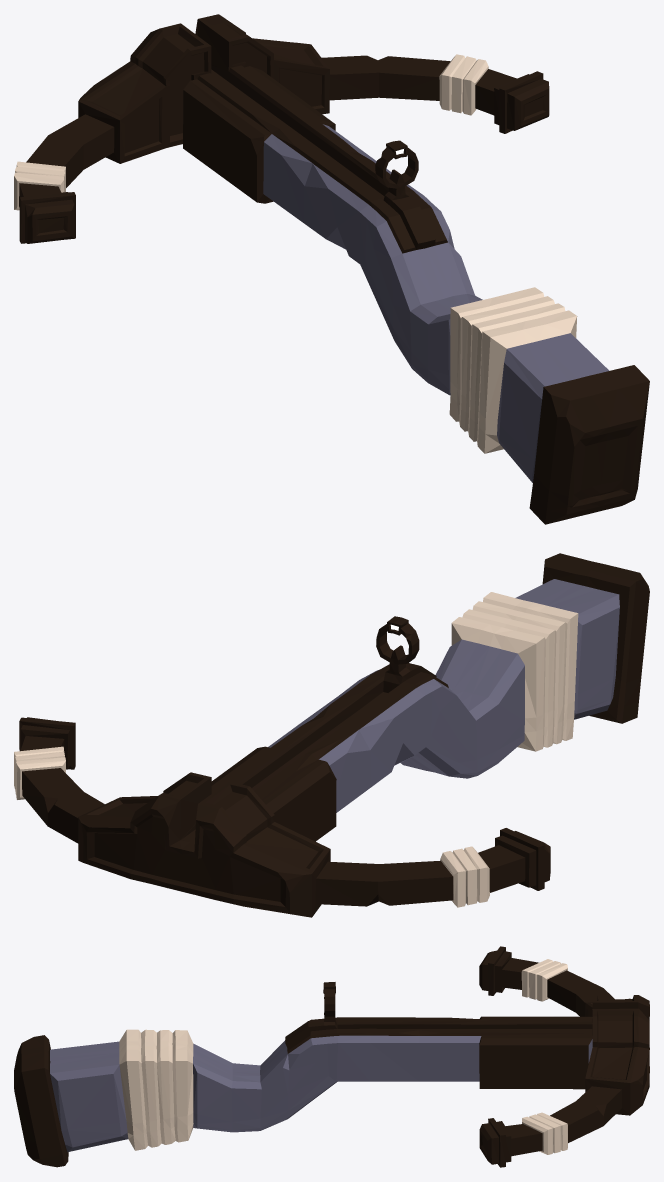
Rendered from SFFA_Weapon_Crossbow_002.fbx.
3 renders of one model, top to bottom at view 1: azimuth 30°, elevation 25°; view 2: azimuth 150°, elevation 25°; view 3: azimuth 270°, elevation 25°, orthographic. The views are drawn at different scales.
Visible parts, largest first — view 1: SFFA_Weapon_Crossbow_002; view 2: SFFA_Weapon_Crossbow_002; view 3: SFFA_Weapon_Crossbow_002.
Part boxes in pixels (x1,y1,x2,y2): SFFA_Weapon_Crossbow_002: (14,14,649,524); SFFA_Weapon_Crossbow_002: (14,553,649,917); SFFA_Weapon_Crossbow_002: (14,946,649,1167).
Bounding box in the file's own units: 62.2 × 25.91 × 88.26.
